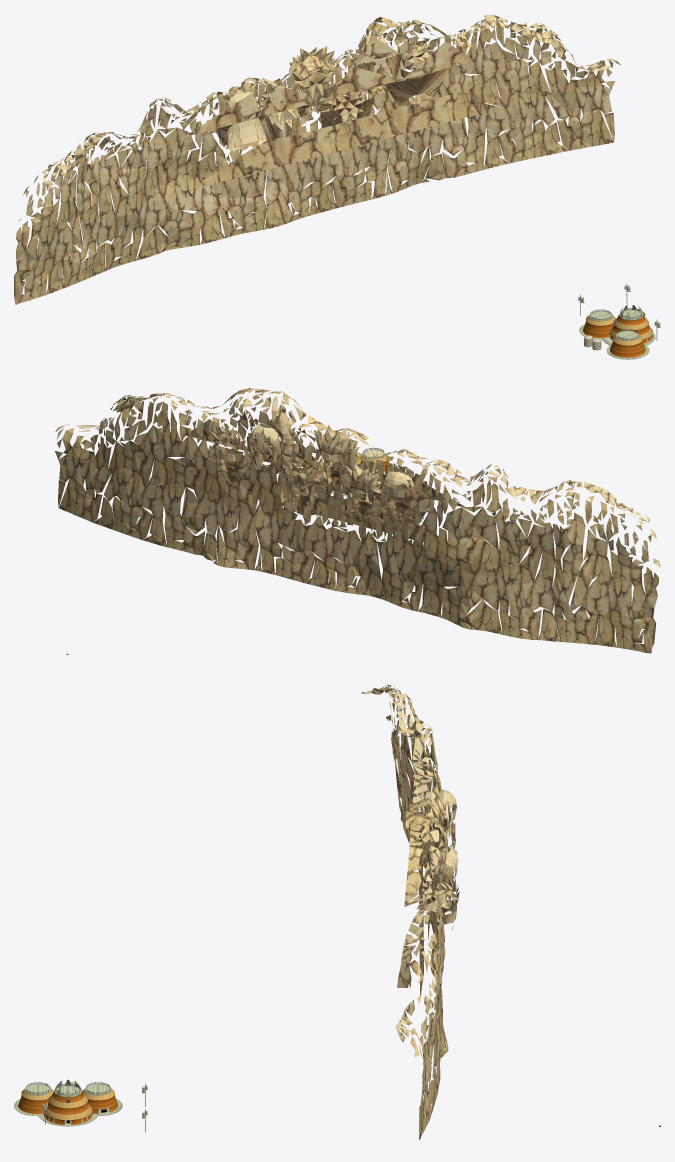
The model's file is hokage_landmarks.glb.
3 renders of one model, top to bottom at view 1: azimuth 30°, elevation 25°; view 2: azimuth 150°, elevation 25°; view 3: azimuth 270°, elevation 25°, orthographic. The views are drawn at different scales.
Parts seen in each view (by area): view 1: konoha_hokage_mountain, konoha_hokage_office; view 2: konoha_hokage_mountain, konoha_hokage_office; view 3: konoha_hokage_mountain, konoha_hokage_office.
Part boxes in pixels (bbox=[...]): konoha_hokage_mountain: bbox=[14, 14, 620, 304]; konoha_hokage_office: bbox=[578, 283, 660, 359]; konoha_hokage_mountain: bbox=[55, 388, 660, 654]; konoha_hokage_office: bbox=[330, 447, 391, 496]; konoha_hokage_mountain: bbox=[361, 684, 660, 1140]; konoha_hokage_office: bbox=[14, 1079, 147, 1132].
Size of the model in its own units: 180 by 62.14 by 146.
Materials: 29 (28 with a texture image).
